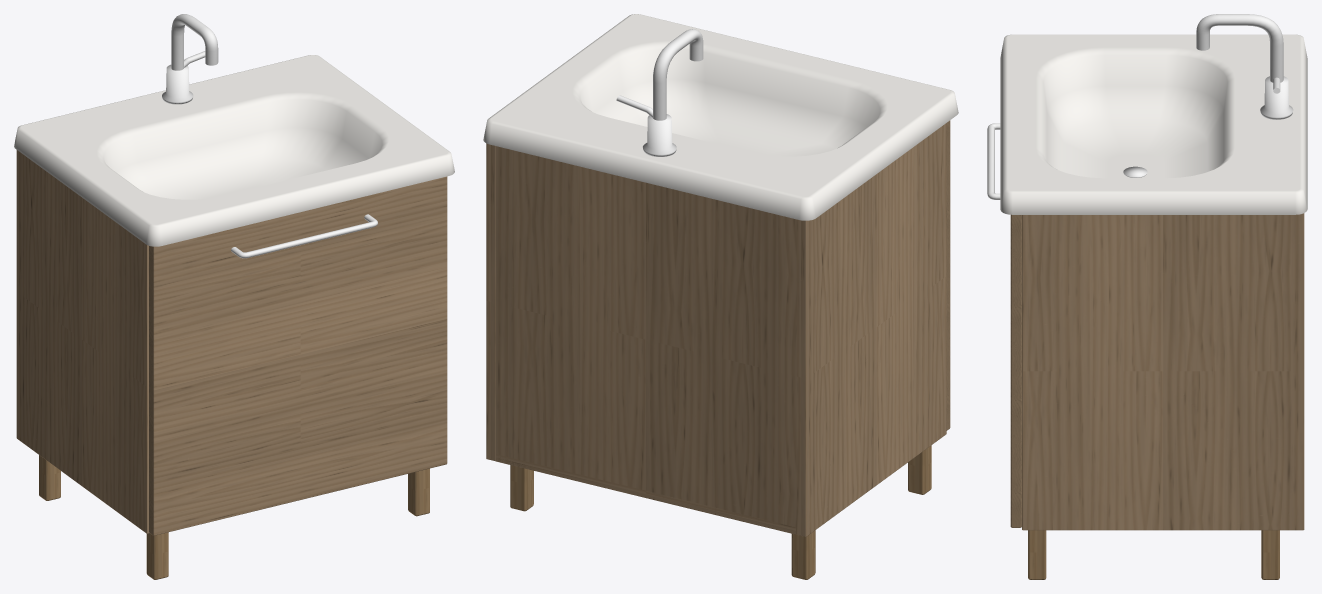
3 views of the same model, side by side, from view 1: azimuth 30°, elevation 25°; view 2: azimuth 150°, elevation 25°; view 3: azimuth 270°, elevation 25° (orthographic). The views are drawn at different scales.
Visible parts, largest first — view 1: drawer_front, basin_top, side_left, mixer_spout, drawer_handle, leg_-1_1, leg_1_1, mixer_base, leg_-1_-1; view 2: back_panel, basin_top, side_left, side_right, bottom, mixer_spout, drawer_front, leg_-1_-1, mixer_base, leg_1_-1, leg_-1_1; view 3: side_right, basin_top, drawer_front, mixer_spout, mixer_base, leg_1_-1, leg_1_1, drawer_handle.
Part boxes in pixels (x1,y1,x2,y2): drawer_front: [149, 176, 447, 535]; basin_top: [14, 55, 454, 246]; side_left: [16, 150, 149, 533]; mixer_spout: [171, 14, 218, 70]; drawer_handle: [231, 214, 377, 258]; leg_-1_1: [146, 532, 168, 579]; leg_1_1: [408, 468, 429, 516]; mixer_base: [162, 64, 193, 104]; leg_-1_-1: [39, 455, 60, 500]; back_panel: [495, 146, 796, 534]; basin_top: [483, 14, 958, 220]; side_left: [796, 123, 946, 536]; side_right: [486, 143, 495, 461]; bottom: [496, 454, 795, 533]; mixer_spout: [653, 29, 703, 120]; drawer_front: [946, 120, 950, 430]; leg_-1_-1: [791, 530, 815, 579]; mixer_base: [643, 114, 676, 156]; leg_1_-1: [510, 465, 533, 511]; leg_-1_1: [908, 445, 931, 494]; side_right: [1022, 213, 1304, 530]; basin_top: [1000, 34, 1307, 214]; drawer_front: [1010, 214, 1021, 527]; mixer_spout: [1196, 14, 1283, 82]; mixer_base: [1260, 76, 1293, 119]; leg_1_-1: [1261, 530, 1279, 579]; leg_1_1: [1028, 530, 1046, 579]; drawer_handle: [987, 123, 1000, 199].
Size of the model in its own units: 0.6 by 0.85 by 0.5.
Materials: 6 (4 with a texture image).
